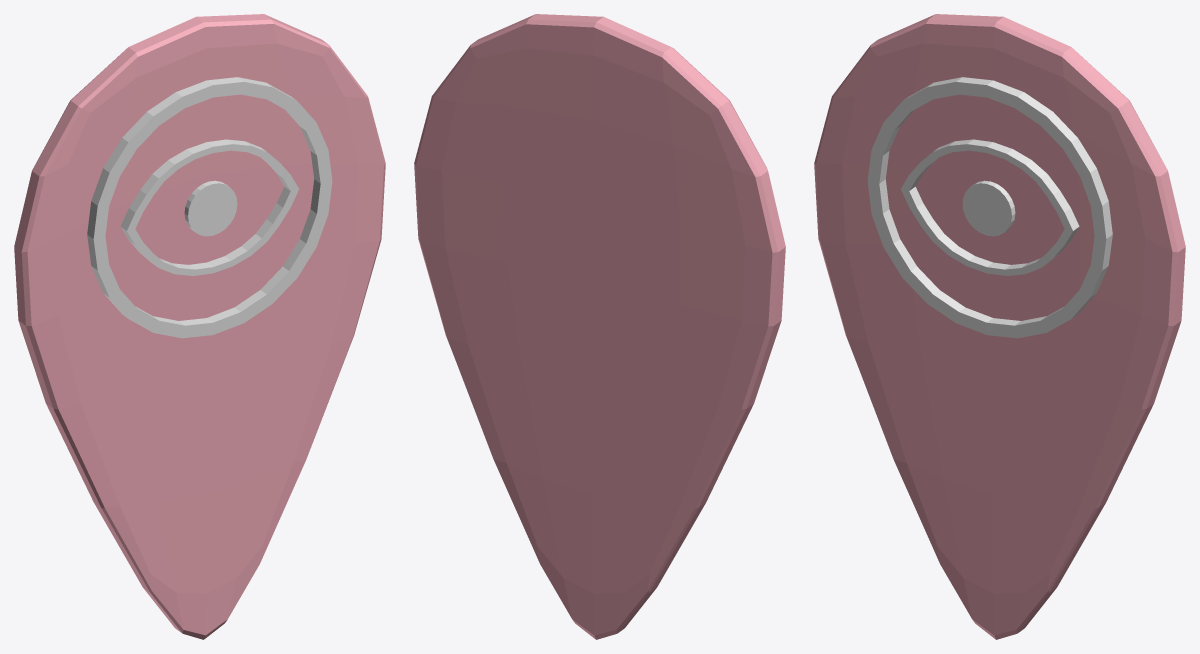
Rendered from pin.glb.
The picture shows the model from 3 angles, left to right: view 1: azimuth 30°, elevation 25°; view 2: azimuth 150°, elevation 25°; view 3: azimuth 330°, elevation 25°; orthographic projection.
Visible parts, largest first — view 1: pinbleu; view 2: pinbleu; view 3: pinbleu.
Part boxes in pixels (x1=…): pinbleu: x1=14, y1=14, x2=385, y2=639; pinbleu: x1=414, y1=14, x2=785, y2=639; pinbleu: x1=814, y1=14, x2=1185, y2=639.
Bounding box in the file's own units: 25.29 × 40.99 × 2.38.
